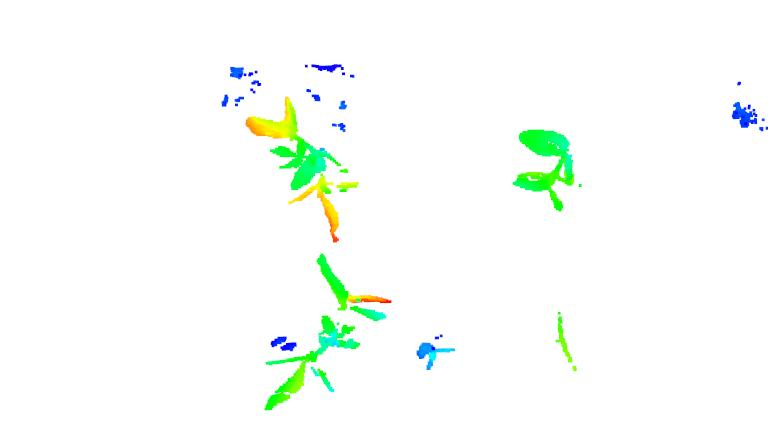mungbean: (259, 250, 397, 417), (243, 91, 355, 245), (502, 120, 590, 212)
